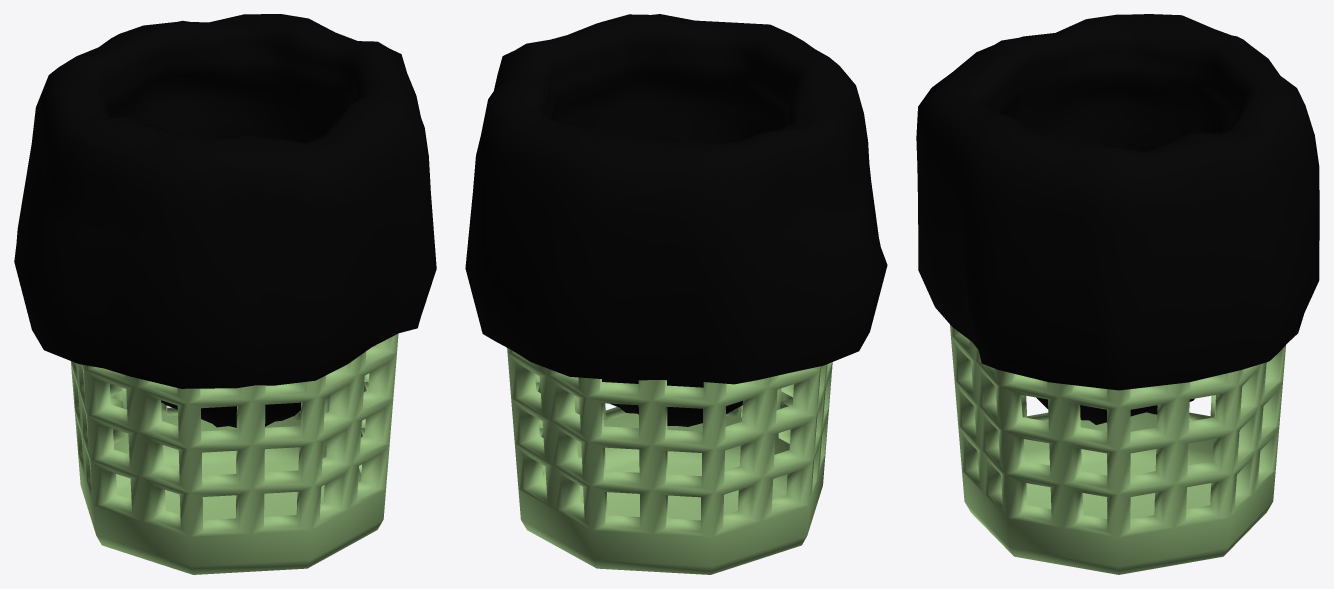
Rendered from trash_bin_plastic.glb.
3 views of the same model, side by side, from view 1: azimuth 30°, elevation 25°; view 2: azimuth 150°, elevation 25°; view 3: azimuth 270°, elevation 25° (orthographic).
Parts seen in each view (by area): view 1: TrashBinPlastic; view 2: TrashBinPlastic; view 3: TrashBinPlastic.
Boxes of the visible parts, x1=… form: TrashBinPlastic: x1=14, y1=14, x2=436, y2=574; TrashBinPlastic: x1=465, y1=14, x2=887, y2=574; TrashBinPlastic: x1=916, y1=14, x2=1319, y2=574.
Size of the model in its own units: 0.4686 by 0.5048 by 0.424.
